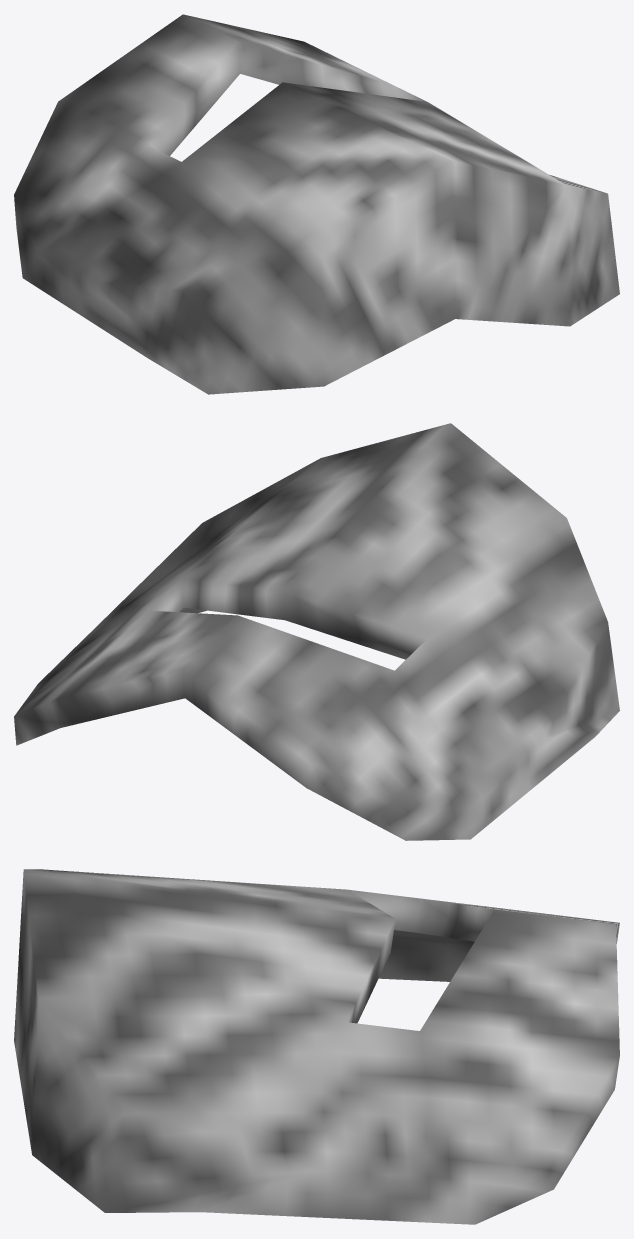
The model's file is FakeBeard_Bob_Beard_Goatee.fbx.
The picture shows the model from 3 angles, top to bottom: view 1: azimuth 30°, elevation 25°; view 2: azimuth 150°, elevation 25°; view 3: azimuth 270°, elevation 25°; orthographic projection. The views are drawn at different scales.
Parts seen in each view (by area): view 1: BoxOfJars003; view 2: BoxOfJars003; view 3: BoxOfJars003.
Boxes of the visible parts, x1,y1,x2,y2 form: BoxOfJars003: (14, 14, 619, 394); BoxOfJars003: (14, 423, 619, 840); BoxOfJars003: (14, 869, 619, 1224).
Size of the model in its own units: 5.17 by 2.34 by 5.48.
